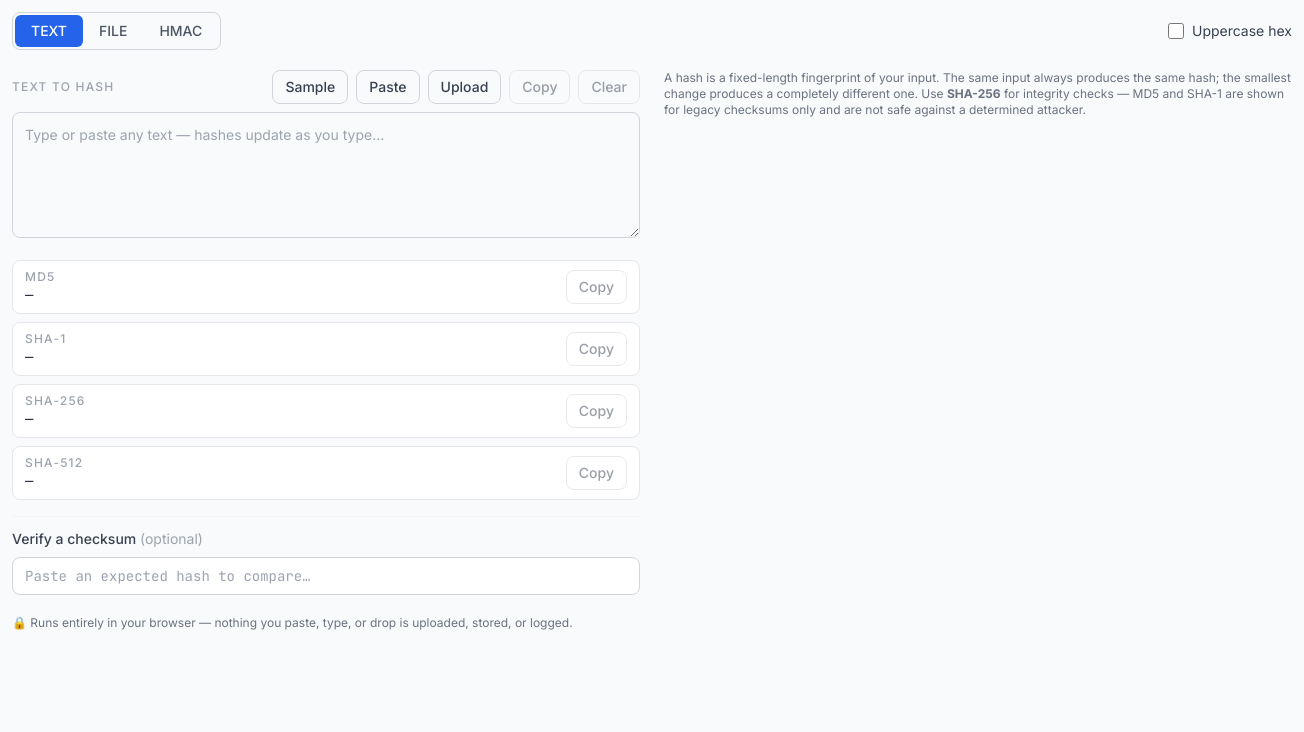
Test: HashGenerator › marks the matching algorithm when a correct checksum is pasted
Type "abc" into the text box named "Text to hash" at (326, 175), box [12,112,640,238]
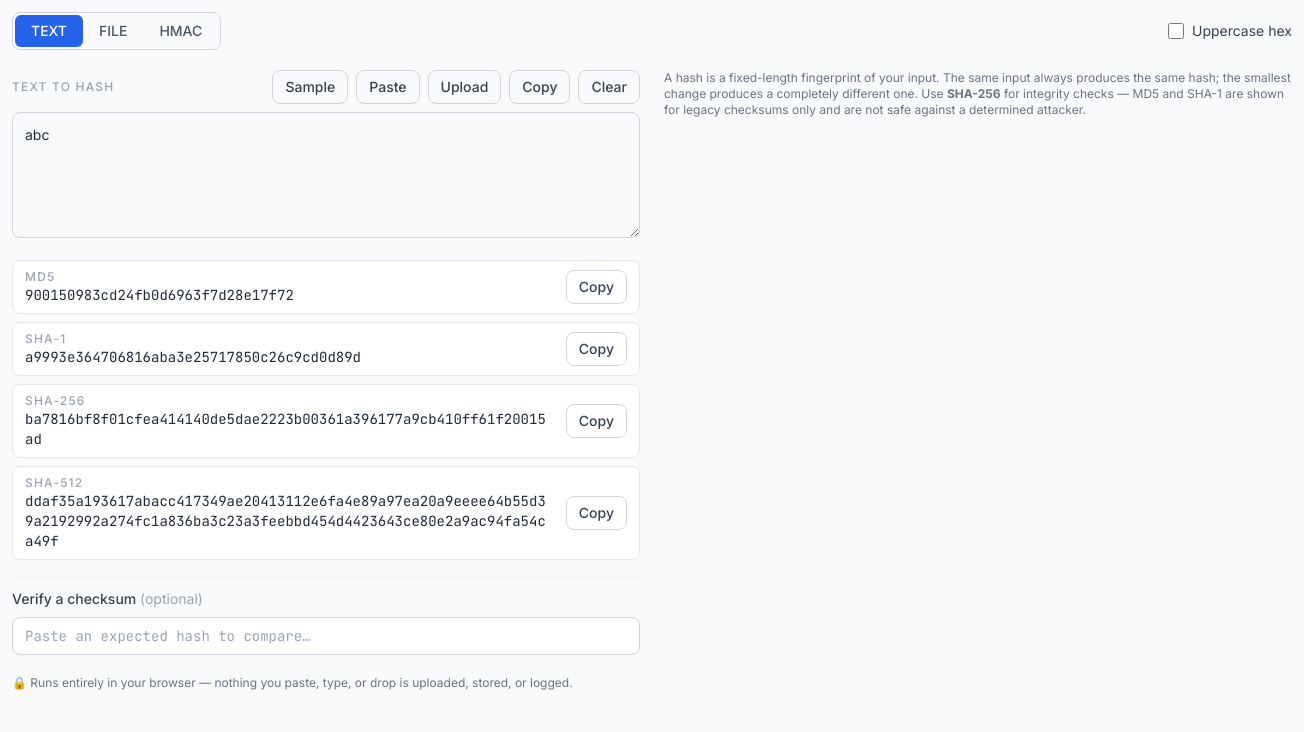
Now the text "ba7816bf8f01cfea414140de5dae2223b00361a396177a9cb410ff61f20015ad" is shown, box [25,409,554,449]
Type "ba7816bf8f01cfea414140de5dae2223b00361a396177a9cb410ff61f20015ad" into the field labelled "Verify a checksum (optional)" at (326, 636), box [12,617,640,655]
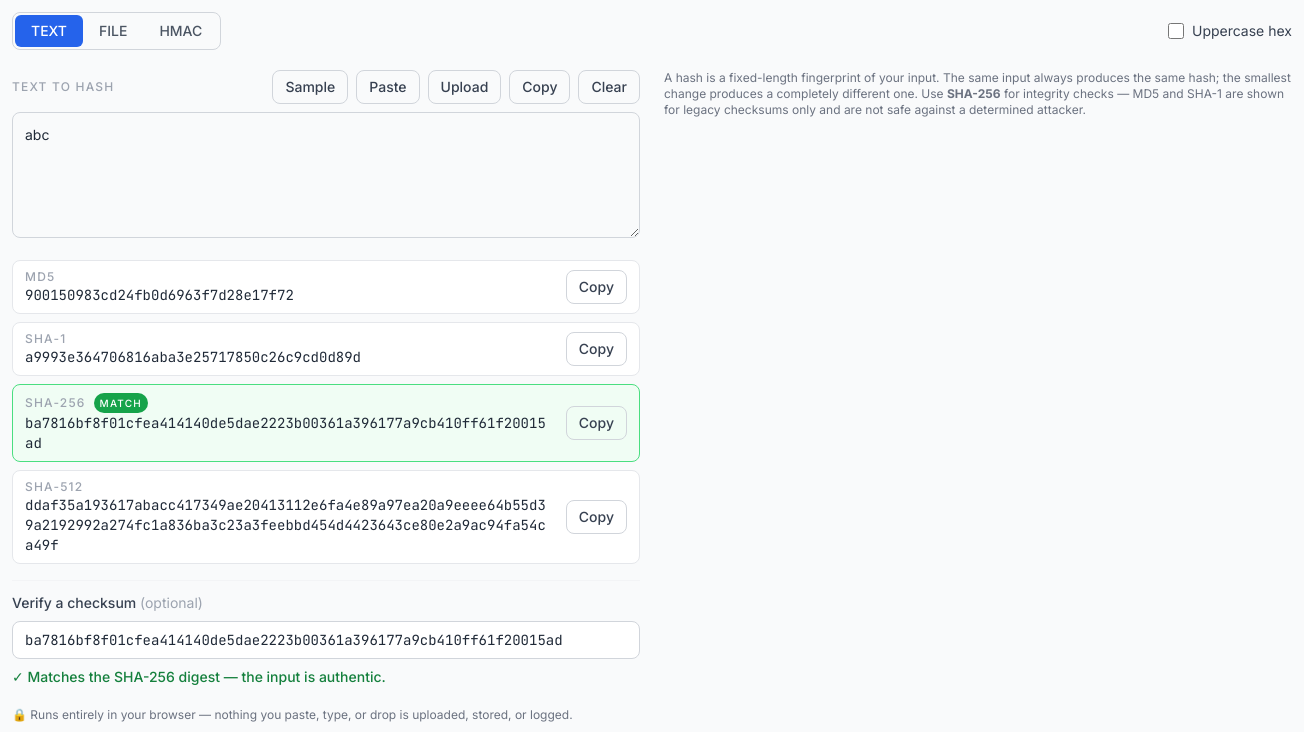
Now the text "✓ Matches the SHA-256 digest — the input is authentic." is shown, box [12,668,386,685]
